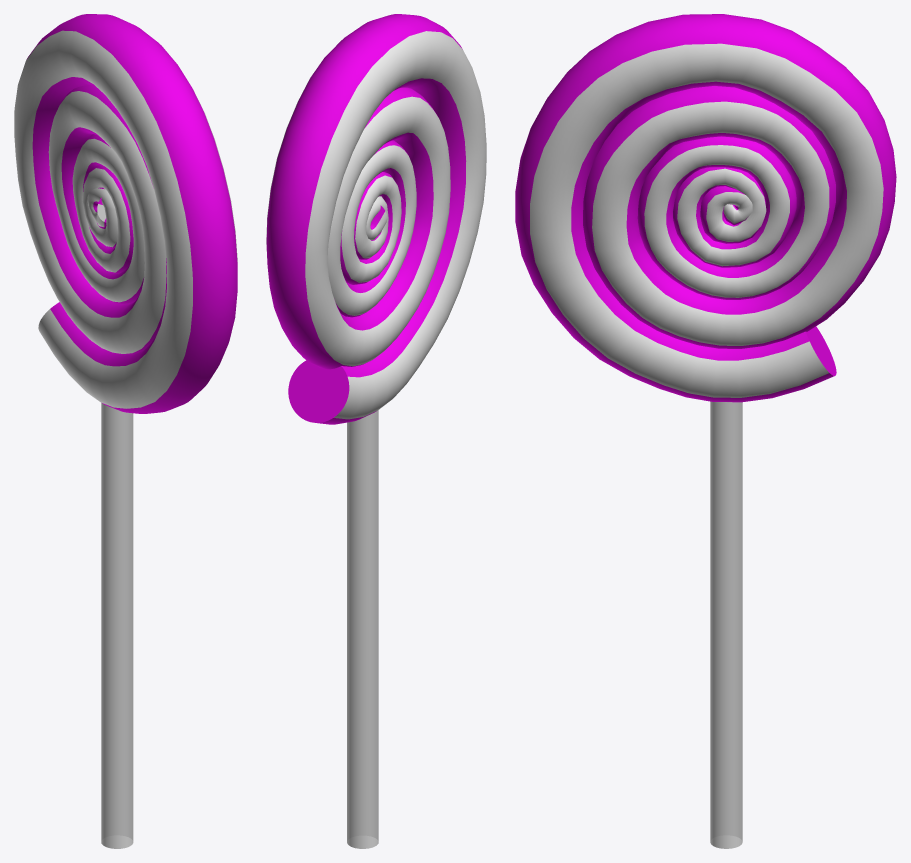
Rendered from キャンディー.fbx.
3 views of the same model, side by side, from view 1: azimuth 30°, elevation 25°; view 2: azimuth 150°, elevation 25°; view 3: azimuth 270°, elevation 25° (orthographic).
Visible parts, largest first — view 1: pCylinder2, pCylinder3; view 2: pCylinder2, pCylinder3; view 3: pCylinder2, pCylinder3.
Boxes of the visible parts, box(x1,y1,x2,y2) form: pCylinder2: box(14, 14, 237, 413); pCylinder3: box(101, 403, 133, 848); pCylinder2: box(266, 14, 486, 424); pCylinder3: box(347, 410, 378, 848); pCylinder2: box(515, 14, 896, 402); pCylinder3: box(710, 401, 742, 848).
Bounding box in the file's own units: 0.2524 × 2.99 × 1.26.
